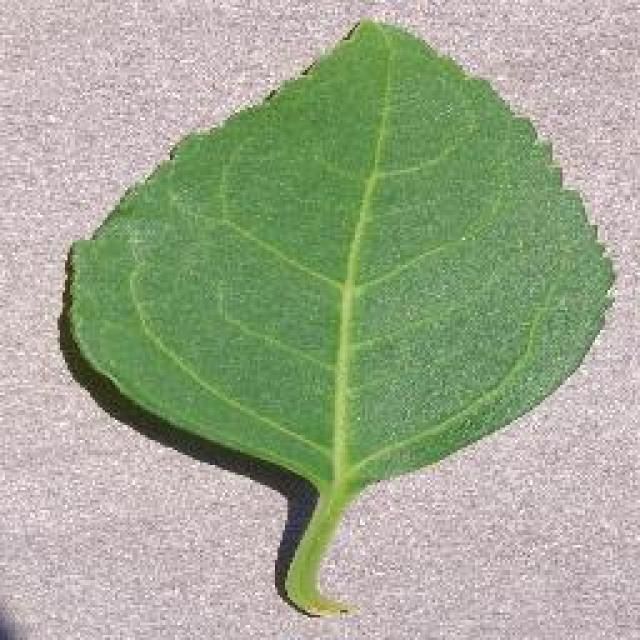Cherry___healthy: (55, 10, 623, 628)
